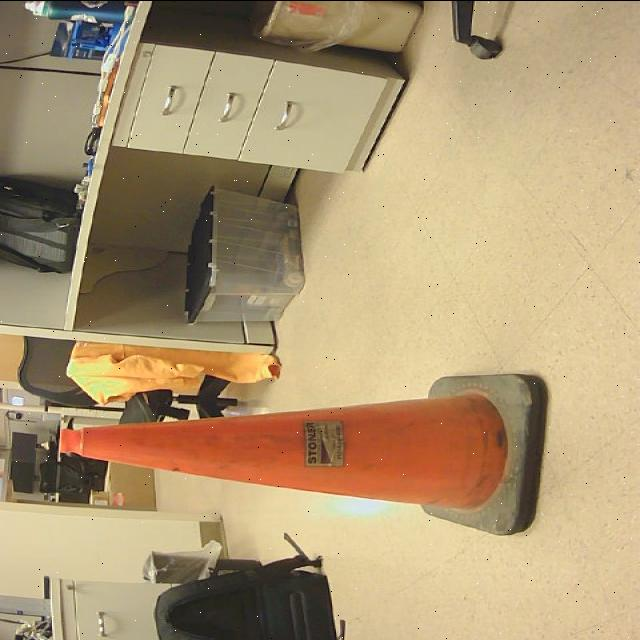traffic cone: (62, 373, 552, 537)
